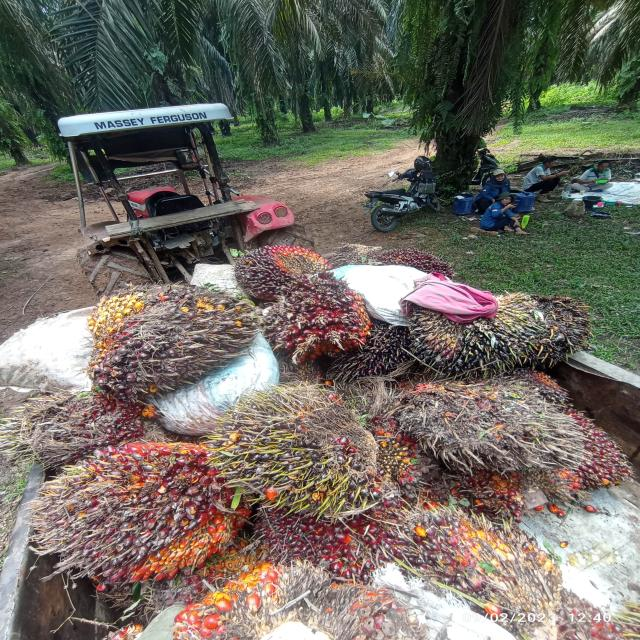fraksi 00: (206, 383, 391, 510), (72, 278, 250, 403), (417, 286, 608, 374), (222, 238, 319, 297)
fraksi 1: (23, 391, 157, 477)
fraksi 3: (261, 286, 374, 365)
fraksi 4: (17, 436, 247, 586)
